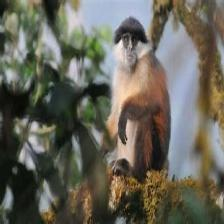monkey: (106, 19, 172, 186)
